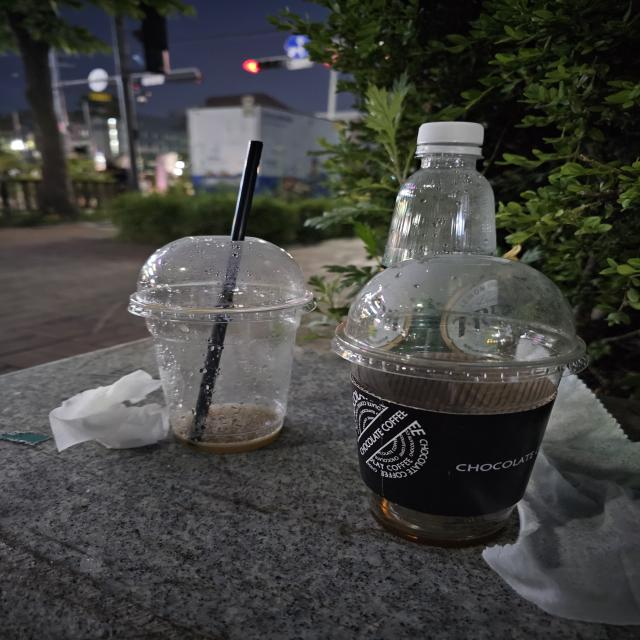cup: (326, 252, 593, 556), (130, 229, 322, 455)
